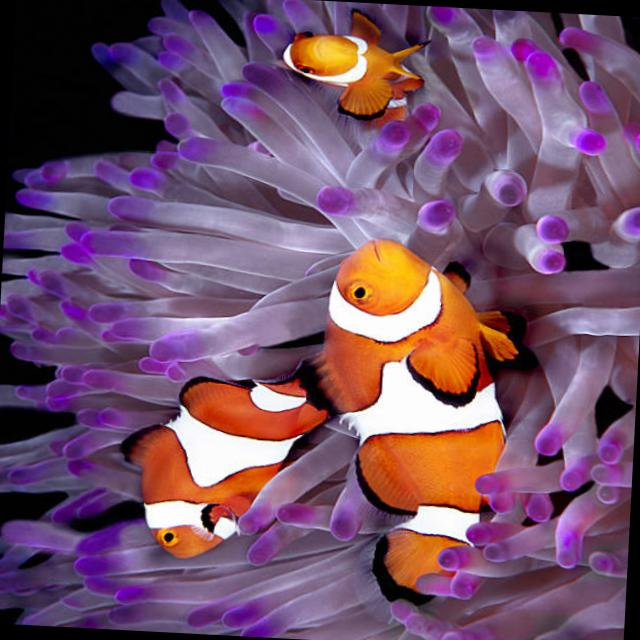ClownFish: (304, 238, 538, 610), (118, 374, 307, 559), (279, 7, 433, 126)
